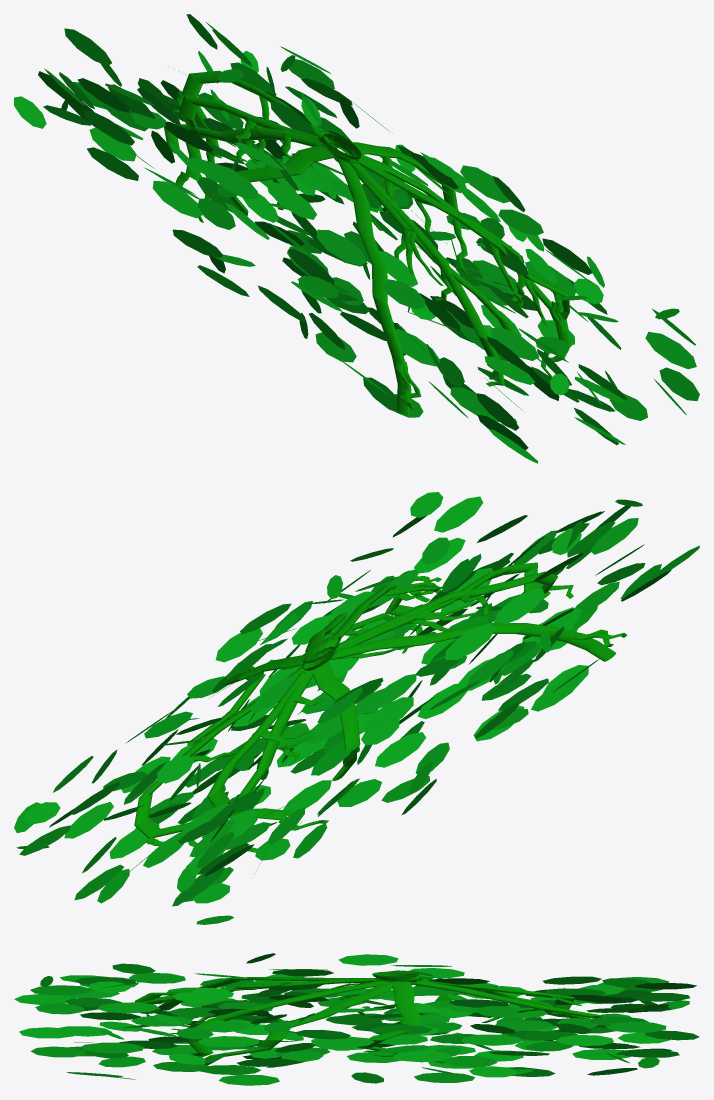
The model's file is bush.obj.
3 renders of one model, top to bottom at view 1: azimuth 30°, elevation 25°; view 2: azimuth 150°, elevation 25°; view 3: azimuth 270°, elevation 25°, orthographic. The views are drawn at different scales.
Parts seen in each view (by area): view 1: Random.1; view 2: Random.1; view 3: Random.1.
Part boxes in pixels (x1,y1,x2,y2): Random.1: (14,14,699,463); Random.1: (14,492,699,924); Random.1: (14,953,699,1085).
Size of the model in its own units: 193 by 87.85 by 631.
